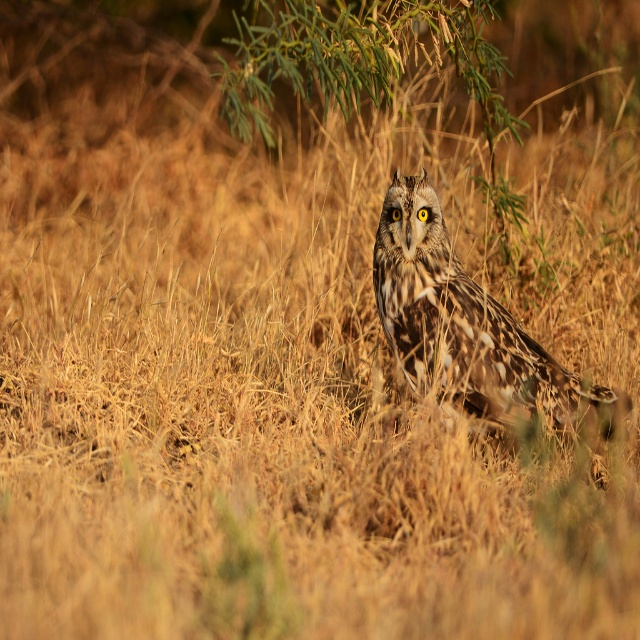Owl: (373, 166, 633, 442)
